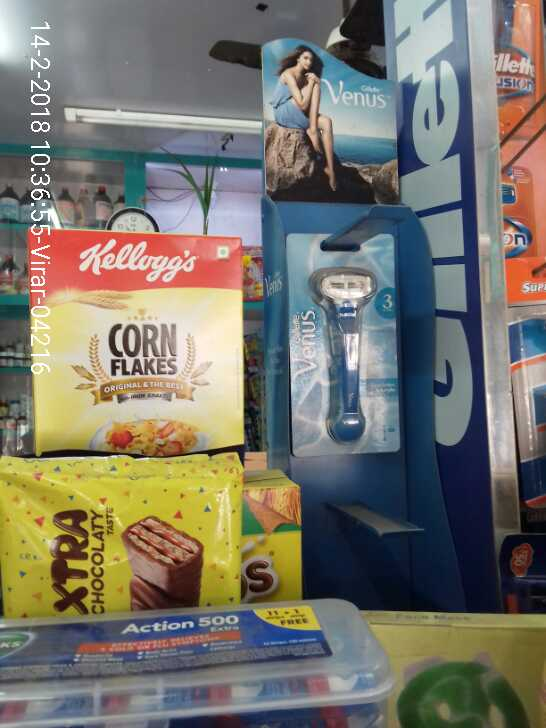venus: (283, 232, 403, 457)
